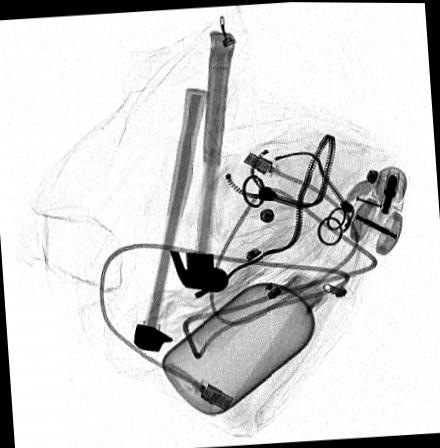Hammer: (134, 87, 210, 350), (169, 27, 236, 290)
